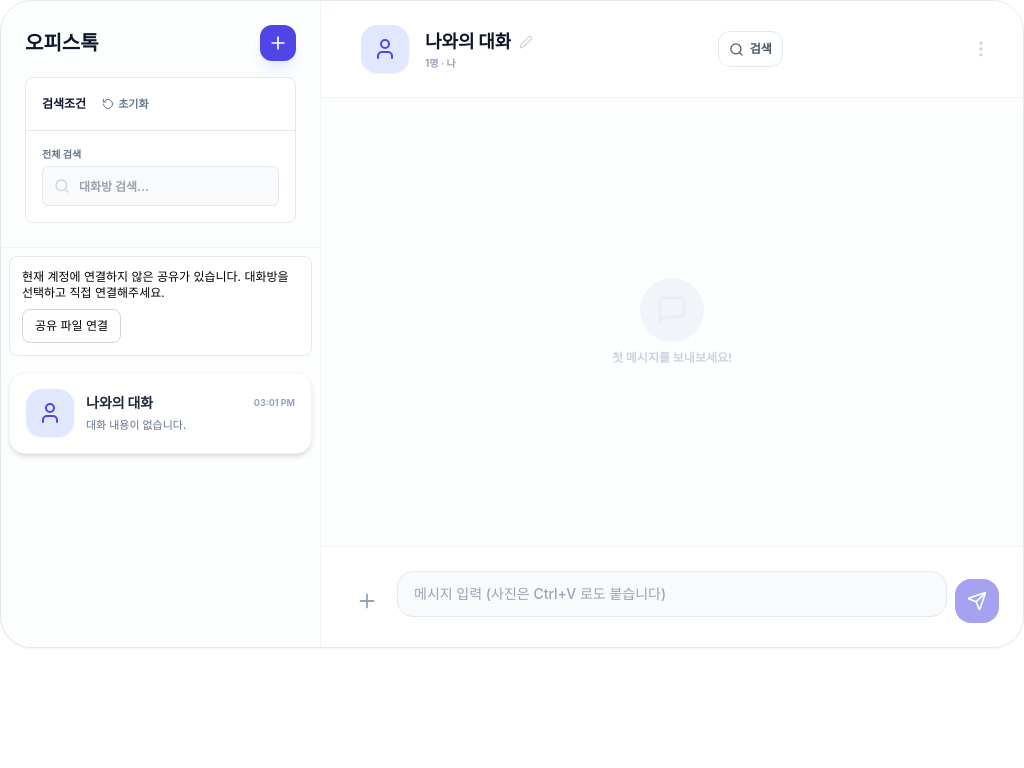
Test: rejects a different-company room before upload
The image size is (1024, 768).
Click the button "공유 파일 연결" at (72, 326), box [22,309,121,343]
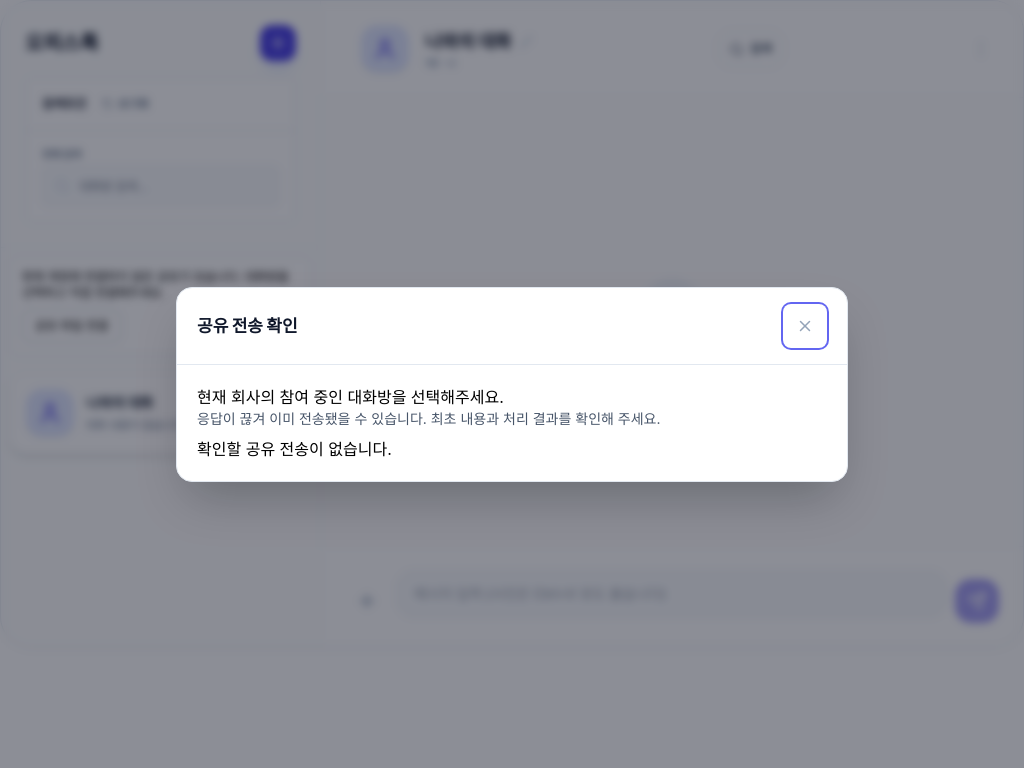
Check: the text "현재 회사의 참여 중인 대화방을 선택해주세요." is shown, box [197,386,504,406]
